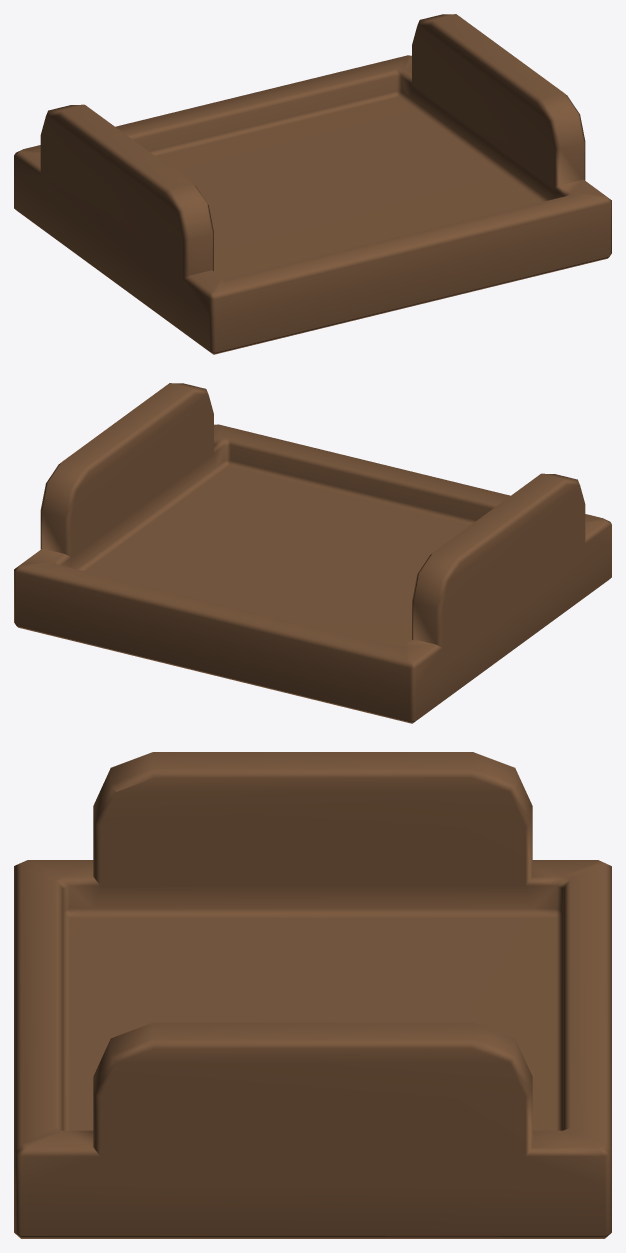
Rendered from Stand_2.glb.
3 renders of one model, top to bottom at view 1: azimuth 30°, elevation 25°; view 2: azimuth 150°, elevation 25°; view 3: azimuth 270°, elevation 25°, orthographic. The views are drawn at different scales.
Visible parts, largest first — view 1: Stand_2; view 2: Stand_2; view 3: Stand_2.
Part boxes in pixels (x1=…): Stand_2: x1=14, y1=14, x2=611, y2=354; Stand_2: x1=14, y1=383, x2=611, y2=723; Stand_2: x1=14, y1=752, x2=611, y2=1238.
Size of the model in its own units: 0.5116 by 0.1625 by 0.4409.
1 material, 1 textured.
